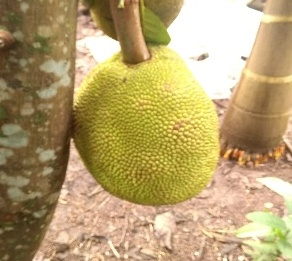Mit: (73, 44, 220, 206)
